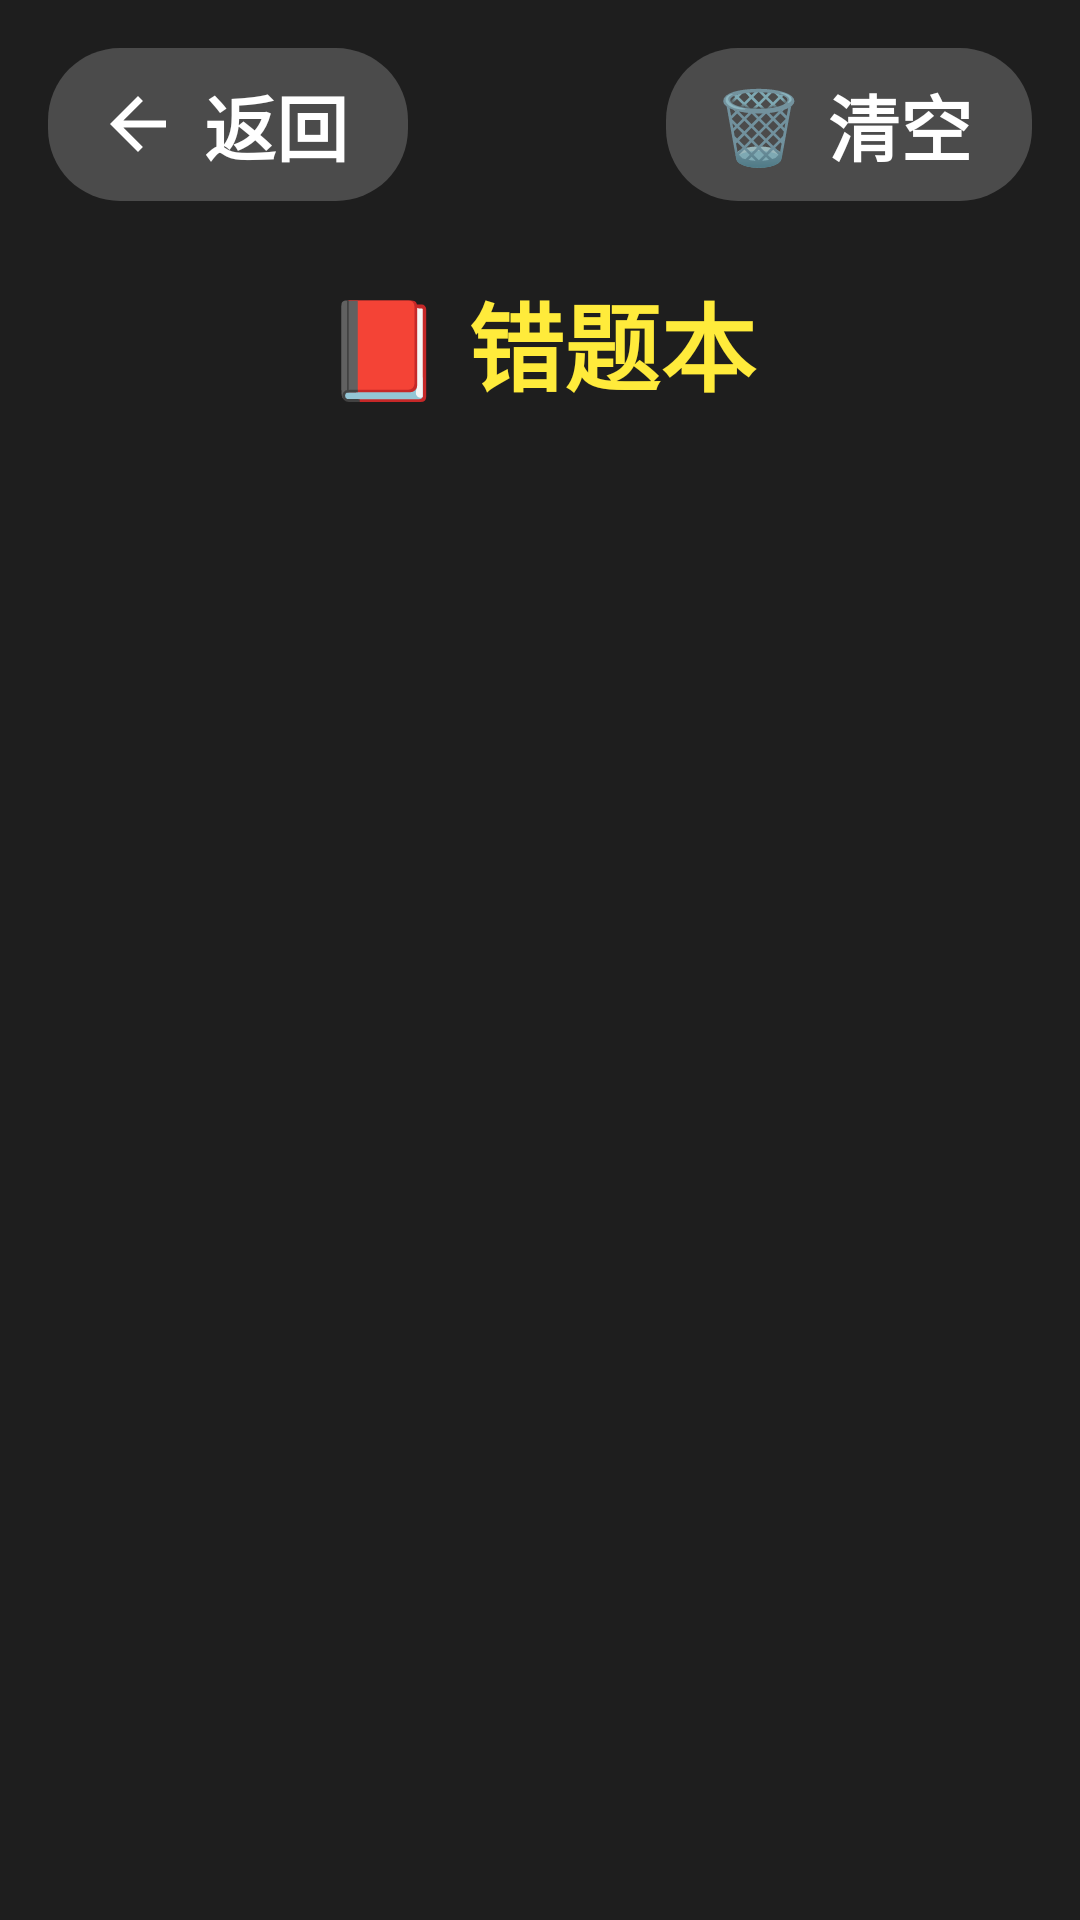

Screen size 1080x1920. Icon name, then its box in pixels as (x1, y1, x2, y2):
back: (110, 96, 166, 152)
